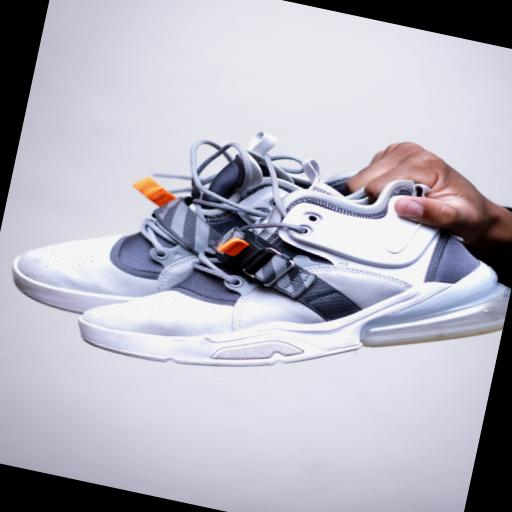shoe: (79, 177, 510, 365), (13, 133, 310, 313)
